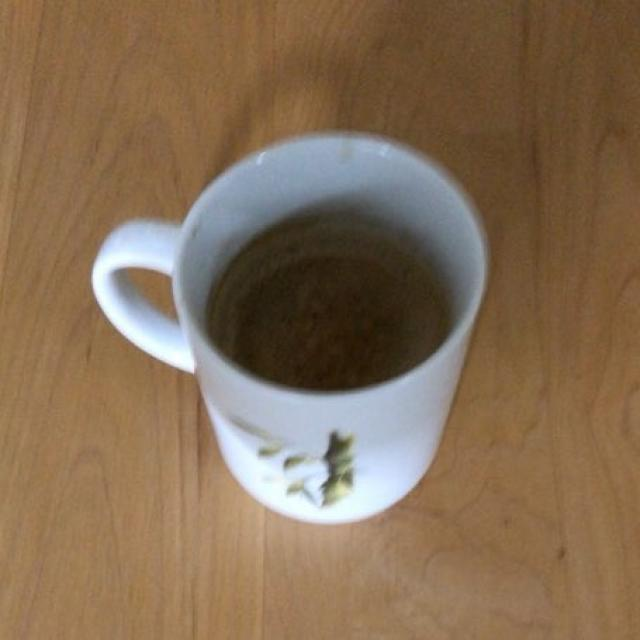coffee: (212, 219, 448, 389)
